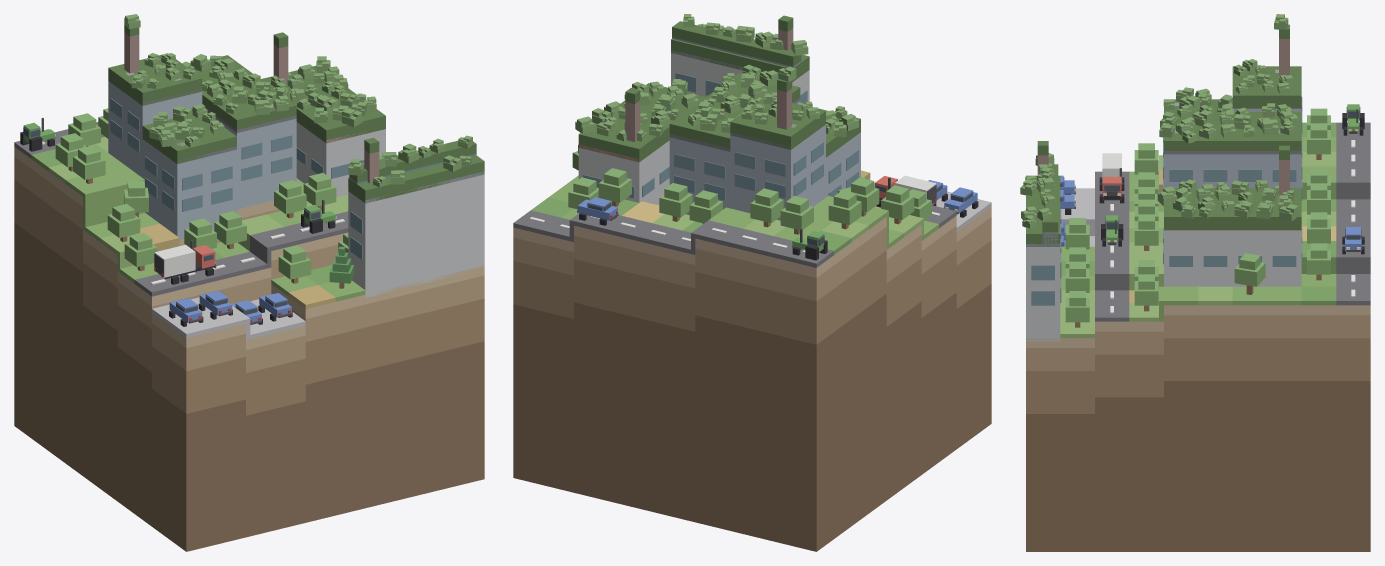
File: block_11_greenroof_45.glb
3 views of the same model, side by side, from view 1: azimuth 30°, elevation 25°; view 2: azimuth 150°, elevation 25°; view 3: azimuth 270°, elevation 25° (orthographic).
Parts seen in each view (by area): view 1: Patch_LowerLeft_b12_GR, Factories_LowerLeft_b12_GR, GR_Roof_Factories_LowerLeft_b12_GR, Ground_LowerLeft_b12_GR, Roads_LowerLeft_b12_GR, Parking_LowerLeft_b12_GR, Asset_Truck.004_GR, Asset_Tree_Round.066_GR, Asset_Tree_Round.046_GR, Asset_Tree_Round.040_GR, Asset_Tree_Round.053_GR, Asset_Tree_Round.050_GR (+12 smaller); view 2: Patch_LowerLeft_b12_GR, Factories_LowerLeft_b12_GR, GR_Roof_Factories_LowerLeft_b12_GR, Ground_LowerLeft_b12_GR, Roads_LowerLeft_b12_GR, Asset_Tree_Round.038_GR, Asset_Tree_Round.034_GR, Asset_Tree_Round.030_GR, Asset_Tree_Round.031_GR, Asset_Tree_Round.033_GR, Asset_Tree_Round.046_GR, Asset_Truck.004_GR (+7 smaller); view 3: Patch_LowerLeft_b12_GR, Factories_LowerLeft_b12_GR, GR_Roof_Factories_LowerLeft_b12_GR, Ground_LowerLeft_b12_GR, Roads_LowerLeft_b12_GR, Asset_Truck.004_GR, Parking_LowerLeft_b12_GR, Asset_Tree_Round.016_GR, Asset_Tree_Round.069_GR, Asset_Tree_Round.056_GR, Asset_Tree_Round.054_GR, Asset_Tree_Round.035_GR (+10 smaller).
Boxes of the visible parts, <box> form: Patch_LowerLeft_b12_GR: <box>14,147,484,551</box>; Factories_LowerLeft_b12_GR: <box>108,33,484,297</box>; GR_Roof_Factories_LowerLeft_b12_GR: <box>108,25,484,202</box>; Ground_LowerLeft_b12_GR: <box>31,137,365,308</box>; Roads_LowerLeft_b12_GR: <box>14,122,348,296</box>; Parking_LowerLeft_b12_GR: <box>152,297,305,339</box>; Asset_Truck.004_GR: <box>154,240,216,284</box>; Asset_Tree_Round.066_GR: <box>278,245,311,283</box>; Asset_Tree_Round.046_GR: <box>107,204,140,241</box>; Asset_Tree_Round.040_GR: <box>73,145,105,183</box>; Asset_Tree_Round.053_GR: <box>274,180,306,218</box>; Asset_Tree_Round.050_GR: <box>124,233,157,271</box>; Patch_LowerLeft_b12_GR: <box>513,177,991,551</box>; Factories_LowerLeft_b12_GR: <box>578,28,860,220</box>; GR_Roof_Factories_LowerLeft_b12_GR: <box>578,15,860,161</box>; Ground_LowerLeft_b12_GR: <box>531,170,938,254</box>; Roads_LowerLeft_b12_GR: <box>513,205,956,267</box>; Asset_Tree_Round.038_GR: <box>828,190,861,229</box>; Asset_Tree_Round.034_GR: <box>598,168,631,206</box>; Asset_Tree_Round.030_GR: <box>780,195,813,234</box>; Asset_Tree_Round.031_GR: <box>750,188,783,227</box>; Asset_Tree_Round.033_GR: <box>659,183,692,221</box>; Asset_Tree_Round.046_GR: <box>881,185,914,224</box>; Asset_Truck.004_GR: <box>875,175,936,207</box>; Patch_LowerLeft_b12_GR: <box>1026,305,1370,551</box>; Factories_LowerLeft_b12_GR: <box>1026,39,1302,341</box>; GR_Roof_Factories_LowerLeft_b12_GR: <box>1026,24,1301,246</box>; Ground_LowerLeft_b12_GR: <box>1060,122,1336,338</box>; Roads_LowerLeft_b12_GR: <box>1095,122,1370,321</box>; Asset_Truck.004_GR: <box>1099,153,1124,203</box>; Parking_LowerLeft_b12_GR: <box>1060,188,1094,246</box>; Asset_Tree_Round.016_GR: <box>1234,253,1265,294</box>; Asset_Tree_Round.069_GR: <box>1065,291,1089,327</box>; Asset_Tree_Round.056_GR: <box>1134,274,1158,311</box>; Asset_Tree_Round.054_GR: <box>1134,214,1158,250</box>; Asset_Tree_Round.035_GR: <box>1307,243,1330,280</box>.
Bounding box in the file's own units: 9.52 × 12.92 × 9.66.
